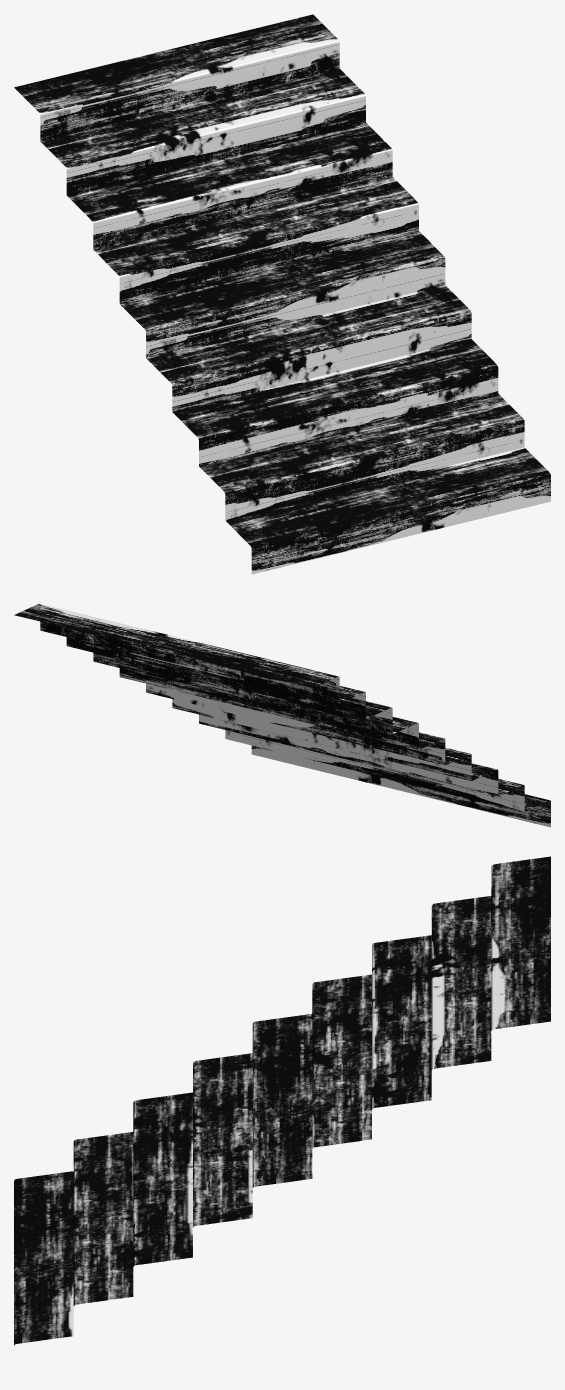
The model's file is SM_porch_stairs_01.fbx.
The picture shows the model from 3 angles, top to bottom: view 1: azimuth 30°, elevation 25°; view 2: azimuth 150°, elevation 25°; view 3: azimuth 270°, elevation 25°; orthographic projection. The views are drawn at different scales.
Visible parts, largest first — view 1: SM_porch_stairs_01_LOD0; view 2: SM_porch_stairs_01_LOD0; view 3: SM_porch_stairs_01_LOD0.
Part boxes in pixels (bbox=[...]): SM_porch_stairs_01_LOD0: bbox=[14, 14, 550, 574]; SM_porch_stairs_01_LOD0: bbox=[14, 603, 550, 827]; SM_porch_stairs_01_LOD0: bbox=[14, 856, 550, 1345].
Size of the model in its own units: 200 by 275 by 200.
1 material, 1 textured.
